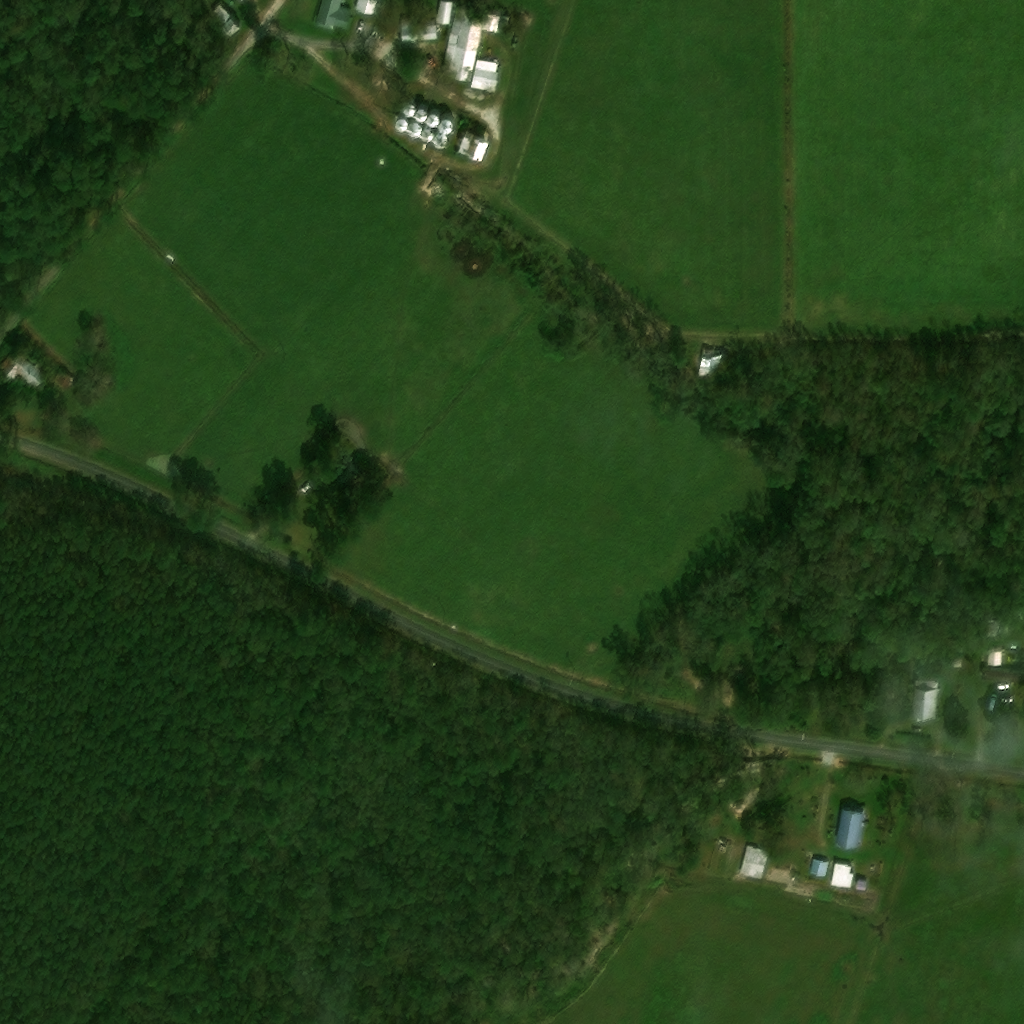no_damage: (442, 8, 500, 81), (0, 353, 44, 386), (314, 0, 353, 32), (910, 680, 939, 721), (835, 807, 864, 848), (739, 846, 770, 881), (929, 641, 964, 671), (206, 4, 238, 35), (396, 20, 437, 44), (455, 129, 486, 160), (471, 62, 499, 94), (698, 348, 724, 381), (982, 615, 1009, 641), (830, 863, 852, 892), (979, 668, 1022, 682), (437, 2, 452, 25), (355, 0, 376, 16), (809, 861, 827, 877), (986, 652, 1001, 669), (429, 132, 445, 147), (404, 120, 418, 135), (436, 117, 450, 132), (392, 115, 405, 129), (423, 111, 436, 124), (418, 126, 430, 139), (412, 106, 424, 119), (401, 103, 413, 115), (854, 882, 867, 891), (238, 0, 248, 5)
